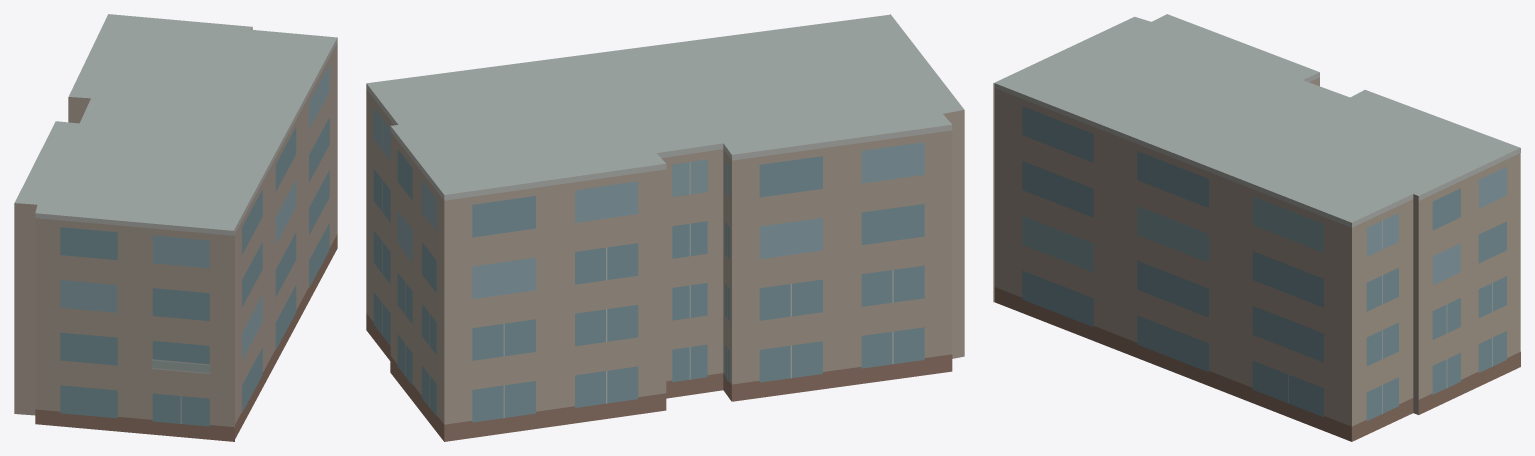
The model's file is survey-upis-32783015.glb.
3 renders of one model, left to right at view 1: azimuth 30°, elevation 25°; view 2: azimuth 150°, elevation 25°; view 3: azimuth 270°, elevation 25°, orthographic. The views are drawn at different scales.
Parts seen in each view (by area): view 1: survey-upis-32783015.tmp; view 2: survey-upis-32783015.tmp; view 3: survey-upis-32783015.tmp.
Boxes of the visible parts, bbox=[...] form: survey-upis-32783015.tmp: bbox=[14, 14, 337, 441]; survey-upis-32783015.tmp: bbox=[366, 14, 964, 441]; survey-upis-32783015.tmp: bbox=[993, 14, 1520, 441].
Size of the model in its own units: 21.67 by 10.6 by 23.14.
